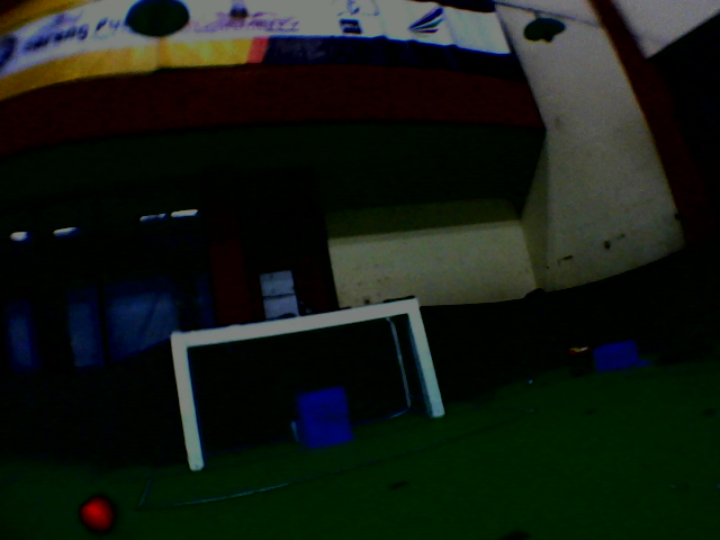bola: (76, 494, 116, 533)
